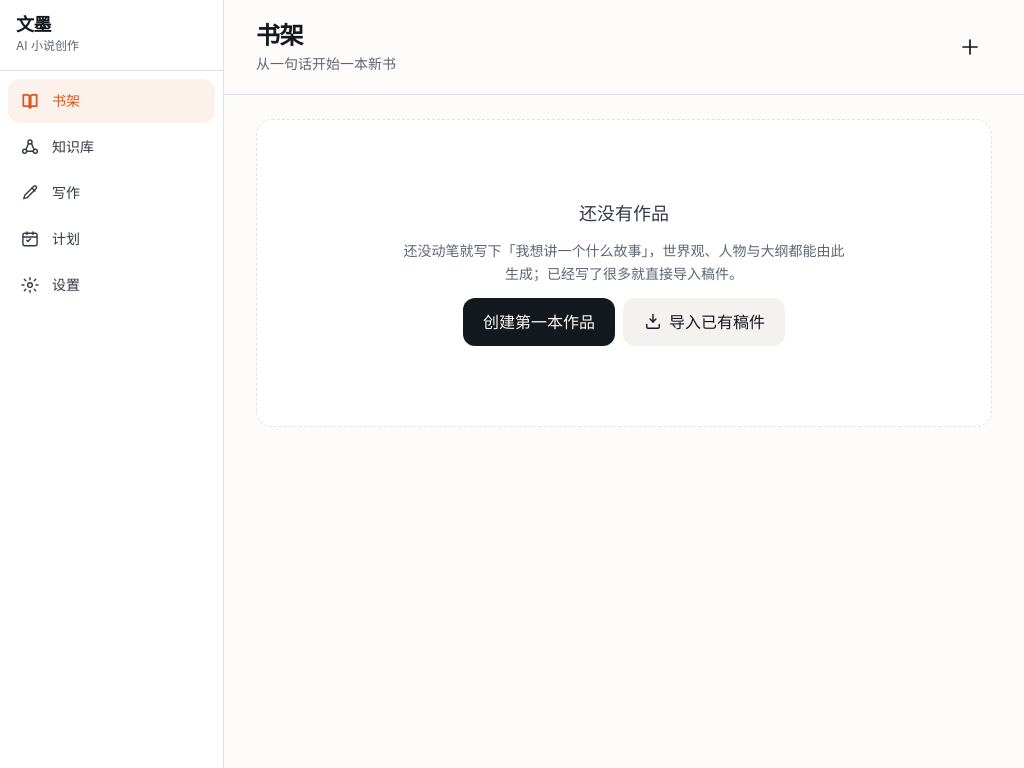
AppShell › 点击「知识库」切换到对应页面
What coordinates should you click on to do the following:
click the link "知识库"
I would click on:
 (57, 147)
Its box is [20,137,94,157].
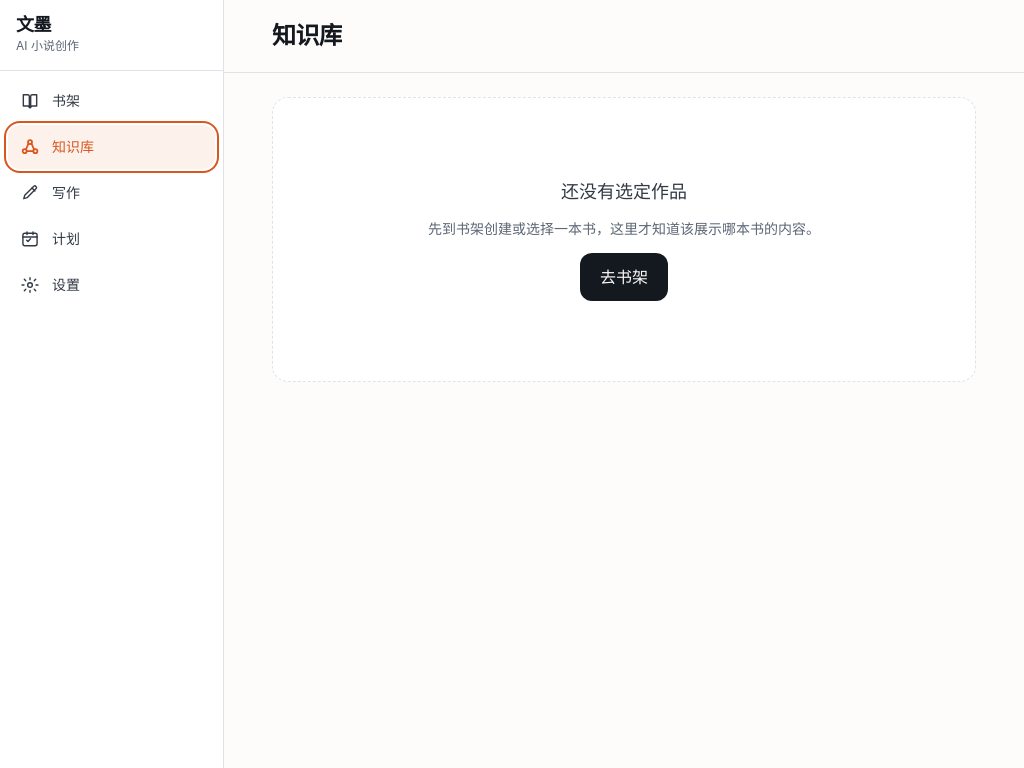
Check: the heading "知识库" is shown, box [272,20,342,52]
